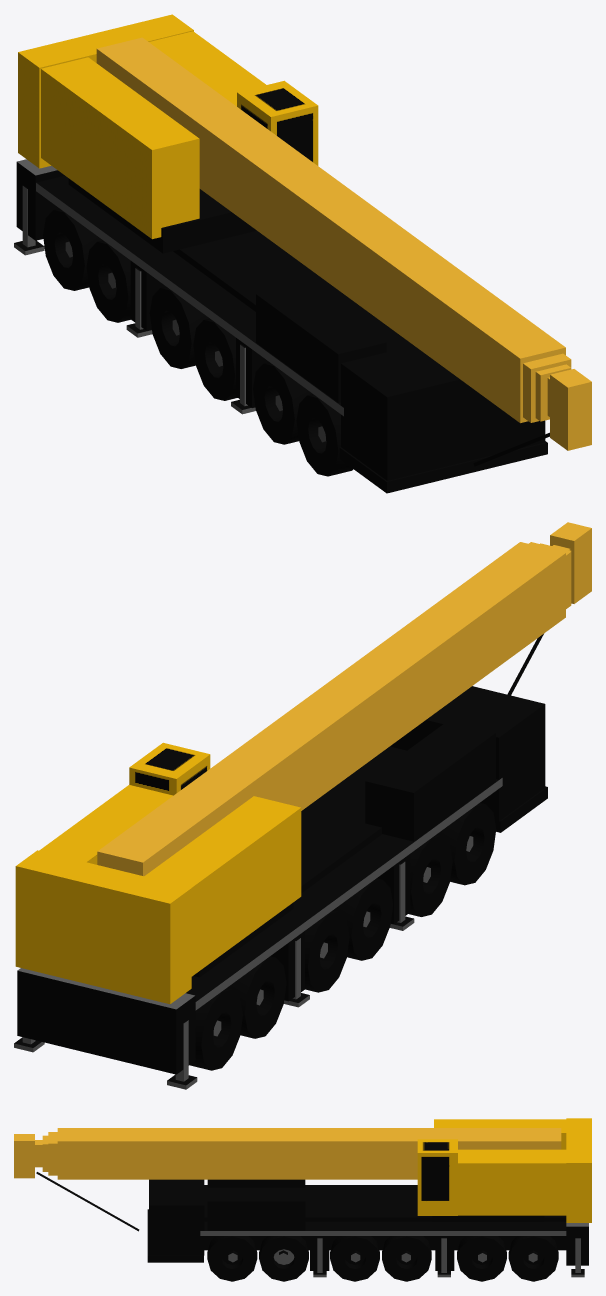
The model's file is mcrane.glb.
3 views of the same model, one above another, from view 1: azimuth 30°, elevation 25°; view 2: azimuth 150°, elevation 25°; view 3: azimuth 270°, elevation 25° (orthographic). The views are drawn at different scales.
Visible parts, largest first — view 1: _DontMove__MainTruck__Object__FBX_TEX_, _DontMove__0___InObject_, _DontMove__Cabin___Object__FBX_TEX_, _MoveZ__75___Object_, _MoveX__NogiRight__Object__FBX_TEX_, _MoveZ__25___InObject_, _MoveZ__50___InObject_; view 2: _DontMove__MainTruck__Object__FBX_TEX_, _DontMove__Cabin___Object__FBX_TEX_, _DontMove__0___InObject_, _MoveZ__75___Object_, _MoveX__NogiRight__Object__FBX_TEX_; view 3: _DontMove__MainTruck__Object__FBX_TEX_, _DontMove__0___InObject_, _DontMove__Cabin___Object__FBX_TEX_, _MoveZ__75___Object_, _MoveX__NogiLeft__Object__FBX_TEX_, _MoveZ__25___InObject_, _Scale_Rotate_Move__Nitj__Object_, _MoveZ__50___InObject_.
Boxes of the visible parts, x1,y1,x2,y2 form: _DontMove__MainTruck__Object__FBX_TEX_: [16, 159, 547, 493]; _DontMove__0___InObject_: [96, 37, 565, 423]; _DontMove__Cabin___Object__FBX_TEX_: [18, 14, 318, 253]; _MoveZ__75___Object_: [547, 369, 591, 450]; _MoveX__NogiRight__Object__FBX_TEX_: [14, 185, 255, 414]; _MoveZ__25___InObject_: [523, 353, 571, 422]; _MoveZ__50___InObject_: [535, 364, 571, 421]; _DontMove__MainTruck__Object__FBX_TEX_: [17, 686, 547, 1074]; _DontMove__Cabin___Object__FBX_TEX_: [15, 742, 301, 1004]; _DontMove__0___InObject_: [97, 542, 565, 876]; _MoveZ__75___Object_: [550, 522, 591, 603]; _MoveX__NogiRight__Object__FBX_TEX_: [167, 861, 414, 1089]; _DontMove__MainTruck__Object__FBX_TEX_: [147, 1179, 588, 1281]; _DontMove__0___InObject_: [57, 1128, 561, 1179]; _DontMove__Cabin___Object__FBX_TEX_: [417, 1118, 591, 1222]; _MoveZ__75___Object_: [14, 1134, 42, 1178]; _MoveX__NogiLeft__Object__FBX_TEX_: [313, 1237, 584, 1277]; _MoveZ__25___InObject_: [48, 1132, 57, 1175]; _Scale_Rotate_Move__Nitj__Object_: [36, 1172, 139, 1231]; _MoveZ__50___InObject_: [42, 1135, 48, 1171].
Bounding box in the file's own units: 712 × 853 × 3477.
6 materials, 4 textured.
